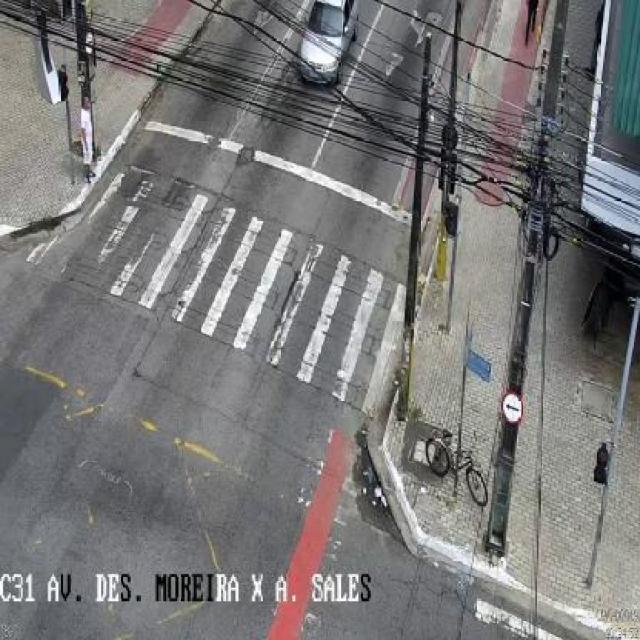Car: (298, 0, 360, 85)
Cycle: (426, 427, 489, 506)
